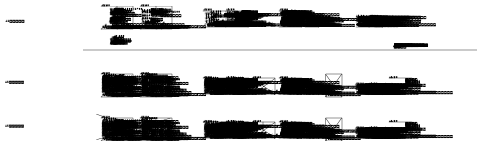corridor: (242, 52, 247, 54), (242, 5, 247, 6), (242, 126, 247, 127), (73, 70, 78, 71)
room: (350, 124, 367, 135), (333, 50, 350, 61), (272, 50, 289, 61), (272, 124, 289, 135), (350, 50, 366, 61), (334, 124, 350, 135), (333, 3, 350, 13), (272, 3, 289, 13), (350, 3, 366, 13), (73, 68, 78, 71), (25, 67, 30, 70), (73, 20, 78, 23), (25, 20, 29, 23), (150, 64, 154, 67), (178, 64, 182, 67), (74, 18, 78, 21), (74, 66, 78, 69), (25, 8, 29, 11), (74, 53, 78, 56), (74, 5, 78, 8), (150, 5, 154, 8), (178, 5, 182, 8), (25, 57, 29, 60), (150, 54, 154, 57), (178, 54, 182, 57), (74, 56, 78, 59), (74, 10, 78, 13), (25, 11, 29, 14), (74, 61, 78, 64), (150, 8, 154, 11), (178, 8, 182, 11), (151, 61, 153, 66), (179, 61, 181, 66), (75, 17, 77, 22), (26, 11, 28, 16), (26, 59, 28, 64), (26, 64, 28, 69), (75, 65, 77, 69), (26, 17, 28, 21), (151, 14, 153, 18), (179, 14, 181, 18), (150, 17, 154, 19), (178, 17, 182, 19), (25, 18, 29, 20), (25, 66, 29, 68), (150, 15, 154, 17), (150, 63, 154, 65), (178, 63, 182, 65), (178, 15, 182, 17), (25, 56, 29, 58), (150, 53, 154, 55), (178, 53, 182, 55), (25, 10, 29, 12), (74, 7, 78, 9), (74, 55, 78, 57), (150, 7, 154, 9), (25, 13, 29, 15), (178, 7, 182, 9), (74, 9, 78, 11), (74, 14, 78, 16), (25, 61, 29, 63), (25, 59, 29, 61), (74, 12, 78, 14), (74, 60, 78, 62), (25, 17, 29, 19), (25, 64, 29, 66), (150, 10, 154, 12), (150, 58, 154, 60), (74, 17, 78, 19), (150, 56, 154, 58), (178, 10, 182, 12), (178, 58, 182, 60), (178, 56, 182, 58), (74, 58, 78, 60), (74, 65, 78, 67), (150, 14, 154, 16), (150, 61, 154, 63), (178, 61, 182, 63), (178, 14, 182, 16), (25, 53, 29, 55), (25, 5, 29, 7), (74, 4, 78, 6), (74, 52, 78, 54), (150, 4, 154, 6), (178, 4, 182, 6), (25, 7, 29, 9), (160, 4, 163, 6), (188, 4, 191, 6), (26, 56, 28, 58), (150, 52, 154, 53), (178, 52, 182, 53), (25, 55, 29, 56), (160, 52, 163, 53), (188, 52, 191, 53), (188, 126, 191, 127), (160, 126, 163, 127), (255, 59, 258, 60), (255, 11, 258, 12), (255, 132, 258, 133), (243, 126, 245, 127), (256, 132, 257, 134), (335, 132, 336, 134), (159, 53, 161, 54), (196, 58, 197, 60), (166, 58, 167, 60), (159, 58, 160, 60), (344, 130, 346, 131), (335, 58, 337, 59), (249, 126, 250, 128), (346, 126, 348, 127), (343, 56, 345, 57), (345, 52, 347, 53), (243, 53, 245, 54), (249, 53, 250, 55), (159, 5, 161, 6), (26, 8, 28, 9), (26, 9, 28, 10), (26, 10, 28, 11), (335, 10, 337, 11), (345, 4, 347, 5), (243, 5, 245, 6), (249, 5, 250, 7), (190, 125, 191, 127), (196, 138, 197, 140), (162, 125, 163, 127), (26, 55, 28, 56), (26, 58, 28, 59), (256, 138, 257, 139), (244, 138, 245, 139), (340, 52, 341, 53), (35, 64, 36, 65), (38, 68, 39, 69), (344, 59, 345, 60), (352, 132, 353, 133), (344, 133, 345, 134), (162, 52, 163, 53), (190, 52, 191, 53), (187, 53, 188, 54), (53, 54, 54, 55), (196, 65, 197, 66), (162, 63, 163, 64), (249, 138, 250, 139), (85, 64, 86, 65), (86, 65, 87, 66), (244, 64, 245, 65), (256, 64, 257, 65), (256, 59, 257, 60), (245, 59, 246, 60), (342, 130, 343, 131), (362, 126, 363, 127), (340, 4, 341, 5), (35, 16, 36, 17), (38, 20, 39, 21), (344, 11, 345, 12), (162, 4, 163, 5), (190, 4, 191, 5), (187, 5, 188, 6), (53, 6, 54, 7), (196, 17, 197, 18), (196, 11, 197, 12), (166, 11, 167, 12), (159, 11, 160, 12), (162, 15, 163, 16), (85, 16, 86, 17), (86, 17, 87, 18), (244, 17, 245, 18), (256, 17, 257, 18), (256, 11, 257, 12), (245, 11, 246, 12), (341, 9, 342, 10), (362, 53, 363, 54), (362, 5, 363, 6), (188, 132, 189, 133), (189, 132, 190, 133), (196, 132, 197, 133), (85, 138, 86, 139), (40, 66, 41, 67), (38, 142, 39, 143), (35, 137, 36, 138), (33, 129, 34, 130), (243, 128, 243, 129), (245, 133, 246, 133), (351, 59, 353, 59), (340, 126, 341, 126), (336, 132, 338, 132), (189, 58, 189, 60), (167, 65, 167, 66), (335, 58, 335, 60), (243, 54, 243, 55), (249, 65, 250, 65), (341, 57, 342, 57), (189, 11, 189, 12), (167, 17, 167, 18), (335, 10, 335, 12), (85, 17, 86, 17), (343, 9, 345, 9), (243, 6, 243, 8), (249, 17, 250, 17), (351, 11, 353, 11), (187, 127, 188, 127), (186, 137, 187, 137), (196, 132, 196, 133), (159, 127, 161, 127), (86, 139, 87, 139)
shaft: (33, 130, 34, 133), (35, 128, 36, 128)
staircase: (73, 68, 78, 71), (73, 20, 78, 23), (25, 67, 30, 70), (74, 53, 78, 56), (74, 56, 78, 59), (150, 54, 154, 57), (150, 64, 154, 67), (178, 54, 182, 57), (178, 64, 182, 67), (74, 5, 78, 8), (74, 10, 78, 13), (74, 18, 78, 21), (25, 11, 29, 14), (25, 8, 29, 11), (25, 20, 29, 23), (150, 5, 154, 8), (150, 8, 154, 11), (178, 5, 182, 8), (178, 8, 182, 11), (74, 66, 78, 69), (25, 57, 29, 60), (74, 61, 78, 64), (78, 56, 79, 65), (183, 55, 184, 64), (74, 60, 78, 62), (74, 52, 78, 54), (178, 61, 182, 63), (178, 63, 182, 65), (150, 61, 154, 63), (150, 63, 154, 65), (150, 53, 154, 55), (150, 56, 154, 58), (150, 58, 154, 60), (178, 53, 182, 55), (178, 56, 182, 58), (178, 58, 182, 60), (74, 17, 78, 19), (74, 12, 78, 14), (74, 4, 78, 6), (74, 7, 78, 9), (74, 9, 78, 11), (74, 14, 78, 16), (25, 17, 29, 19), (25, 5, 29, 7), (25, 13, 29, 15), (25, 7, 29, 9), (25, 10, 29, 12), (25, 18, 29, 20), (178, 14, 182, 16), (178, 15, 182, 17), (150, 14, 154, 16), (150, 15, 154, 17), (150, 4, 154, 6), (150, 7, 154, 9), (150, 10, 154, 12), (150, 17, 154, 19), (178, 4, 182, 6), (178, 7, 182, 9), (178, 10, 182, 12), (178, 17, 182, 19), (25, 53, 29, 55), (25, 61, 29, 63), (25, 59, 29, 61), (25, 56, 29, 58), (25, 66, 29, 68), (25, 64, 29, 66), (74, 65, 78, 67), (74, 58, 78, 60), (74, 55, 78, 57), (177, 66, 183, 67), (73, 20, 78, 21), (25, 20, 30, 21), (73, 70, 78, 71), (25, 70, 30, 71), (150, 66, 155, 67), (74, 66, 78, 67), (73, 52, 74, 56), (76, 63, 78, 65), (74, 61, 78, 62), (73, 65, 74, 69), (74, 63, 78, 64), (74, 56, 78, 57), (74, 55, 78, 56), (74, 53, 78, 54), (178, 64, 182, 65), (150, 64, 154, 65), (150, 52, 154, 53), (150, 59, 152, 61), (150, 59, 154, 60), (150, 56, 154, 57), (150, 54, 154, 55), (150, 53, 154, 54), (178, 52, 182, 53), (180, 59, 182, 61), (178, 59, 182, 60), (178, 56, 182, 57), (178, 54, 182, 55), (178, 53, 182, 54), (74, 18, 78, 19), (73, 4, 74, 8), (76, 15, 78, 17), (74, 15, 78, 16), (74, 12, 78, 13), (74, 10, 78, 11), (74, 9, 78, 10), (74, 7, 78, 8), (74, 5, 78, 6), (25, 18, 29, 19), (25, 6, 29, 7), (25, 13, 29, 14), (25, 11, 29, 12), (25, 10, 29, 11), (25, 8, 29, 9), (178, 15, 182, 16), (178, 17, 182, 18), (150, 15, 154, 16), (150, 17, 154, 18), (154, 4, 155, 8), (177, 4, 178, 8), (150, 10, 154, 11), (150, 8, 154, 9), (150, 7, 154, 8), (150, 5, 154, 6), (178, 10, 182, 11), (178, 8, 182, 9), (178, 7, 182, 8), (178, 5, 182, 6), (25, 54, 29, 55), (25, 55, 29, 56), (25, 62, 27, 64), (25, 62, 29, 63), (25, 59, 29, 60), (25, 57, 29, 58), (25, 56, 29, 57), (78, 52, 79, 56), (73, 59, 74, 62), (73, 56, 74, 59), (154, 52, 155, 55), (154, 55, 155, 58), (154, 62, 155, 65), (177, 55, 178, 58), (177, 52, 178, 55), (177, 62, 178, 65), (73, 11, 74, 14), (73, 8, 74, 11), (73, 18, 74, 21), (154, 8, 155, 11), (154, 14, 155, 17), (177, 8, 178, 11), (177, 14, 178, 17), (183, 52, 184, 55), (75, 67, 77, 68), (75, 65, 77, 66), (76, 64, 78, 65), (75, 62, 77, 63), (75, 60, 77, 61), (75, 59, 77, 60), (75, 57, 77, 58), (75, 54, 77, 55), (75, 52, 77, 53), (151, 63, 153, 64), (151, 55, 153, 56), (152, 61, 154, 62), (151, 60, 153, 61), (151, 58, 153, 59), (151, 57, 153, 58), (151, 53, 153, 54), (151, 52, 153, 53), (178, 61, 180, 62), (179, 53, 181, 54), (179, 52, 181, 53), (75, 19, 77, 20), (75, 17, 77, 18), (74, 17, 76, 18), (75, 16, 77, 17), (75, 8, 77, 9), (75, 14, 77, 15), (75, 11, 77, 12), (75, 6, 77, 7), (75, 4, 77, 5), (26, 19, 28, 20), (26, 17, 28, 18), (26, 5, 28, 6), (25, 15, 27, 16), (26, 15, 28, 16), (26, 14, 28, 15), (26, 12, 28, 13), (26, 9, 28, 10), (26, 7, 28, 8), (151, 14, 153, 15), (150, 12, 152, 13), (151, 12, 153, 13), (151, 9, 153, 10), (151, 6, 153, 7), (151, 4, 153, 5), (180, 12, 182, 13), (179, 6, 181, 7), (179, 4, 181, 5), (26, 66, 28, 67), (26, 53, 28, 54), (26, 58, 28, 59), (27, 64, 29, 65), (26, 63, 28, 64), (26, 61, 28, 62), (26, 60, 28, 61), (26, 56, 28, 57), (26, 55, 28, 56), (180, 63, 181, 64), (154, 61, 155, 62), (177, 61, 178, 62), (180, 55, 181, 56), (180, 60, 181, 61), (180, 58, 181, 59), (180, 57, 181, 58), (180, 14, 181, 15), (180, 12, 181, 13), (180, 9, 181, 10), (74, 65, 76, 65), (75, 64, 77, 64), (75, 56, 77, 56), (73, 65, 74, 65), (74, 60, 78, 60), (180, 62, 181, 62), (178, 63, 182, 63), (151, 62, 153, 62), (150, 63, 154, 63), (150, 61, 152, 61), (150, 58, 154, 58), (181, 61, 182, 61), (178, 58, 182, 58), (76, 17, 78, 17), (74, 14, 78, 14), (73, 17, 74, 17), (75, 13, 77, 13), (75, 10, 77, 10), (30, 5, 30, 7), (30, 17, 30, 20), (30, 7, 30, 11), (30, 11, 30, 14), (30, 17, 30, 17), (26, 11, 28, 11), (27, 17, 29, 17), (25, 16, 27, 16), (25, 15, 29, 15), (180, 16, 181, 16), (151, 16, 153, 16), (154, 14, 155, 14), (177, 14, 178, 14), (151, 8, 153, 8), (152, 14, 154, 14), (150, 13, 152, 13), (150, 12, 154, 12), (151, 11, 153, 11), (180, 8, 181, 8), (178, 14, 180, 14), (181, 13, 182, 13), (178, 12, 182, 12), (180, 11, 181, 11), (25, 66, 29, 66), (26, 65, 28, 65), (30, 53, 30, 55), (30, 65, 30, 68), (30, 55, 30, 58), (30, 58, 30, 61), (30, 64, 30, 65), (25, 64, 27, 64), (25, 61, 29, 61)
wall: (17, 0, 109, 29), (147, 3, 203, 20), (177, 4, 183, 13), (150, 52, 155, 61), (150, 4, 155, 13), (75, 53, 77, 65), (75, 5, 77, 17), (151, 52, 153, 61), (179, 52, 181, 61), (177, 52, 183, 55), (151, 5, 153, 13), (179, 5, 181, 13), (253, 127, 258, 129), (242, 52, 247, 54), (253, 53, 258, 55), (25, 19, 30, 21), (177, 16, 182, 18), (150, 16, 155, 18), (253, 5, 258, 7), (25, 55, 30, 57), (150, 52, 154, 54), (178, 52, 182, 54), (160, 51, 163, 53), (188, 51, 191, 53), (250, 58, 252, 61), (188, 125, 191, 127), (160, 125, 163, 127), (242, 126, 247, 127), (73, 61, 78, 62), (73, 55, 78, 56), (73, 58, 78, 59), (73, 68, 78, 69), (177, 64, 182, 65), (150, 64, 155, 65), (150, 54, 155, 55), (150, 57, 155, 58), (177, 54, 182, 55), (177, 57, 182, 58), (73, 13, 78, 14), (73, 7, 78, 8), (73, 10, 78, 11), (73, 20, 78, 21), (25, 18, 30, 19), (25, 6, 30, 7), (25, 10, 30, 11), (25, 8, 30, 9), (25, 11, 30, 12), (25, 13, 30, 14), (25, 14, 30, 15), (150, 7, 155, 8), (150, 10, 155, 11), (177, 7, 182, 8), (177, 10, 182, 11), (242, 5, 247, 6), (25, 65, 30, 66), (25, 54, 30, 55), (25, 57, 30, 58), (25, 59, 30, 60), (25, 62, 30, 63), (25, 67, 30, 68), (250, 132, 252, 134), (337, 52, 341, 53), (74, 66, 78, 67), (74, 53, 78, 54), (74, 56, 78, 57), (74, 59, 78, 60), (74, 63, 78, 64), (178, 62, 182, 63), (150, 62, 154, 63), (150, 56, 154, 57), (150, 59, 154, 60), (178, 56, 182, 57), (178, 59, 182, 60), (243, 55, 247, 56), (34, 19, 36, 21), (74, 18, 78, 19), (74, 5, 78, 6), (74, 9, 78, 10), (74, 12, 78, 13), (74, 15, 78, 16), (54, 19, 56, 21), (45, 19, 47, 21), (178, 15, 182, 16), (150, 15, 154, 16), (150, 5, 154, 6), (150, 8, 154, 9), (150, 11, 154, 12), (178, 5, 182, 6), (178, 8, 182, 9), (178, 11, 182, 12), (250, 11, 252, 13), (243, 7, 247, 8), (334, 52, 337, 53), (152, 61, 155, 62), (177, 61, 180, 62), (335, 58, 338, 59), (160, 4, 163, 5), (188, 4, 191, 5), (335, 10, 338, 11), (45, 58, 48, 59), (27, 64, 30, 65), (335, 52, 337, 53), (34, 67, 36, 68), (343, 59, 345, 60), (344, 133, 346, 134), (76, 64, 78, 65), (45, 57, 47, 58), (54, 67, 56, 68), (45, 67, 47, 68), (34, 57, 36, 58), (95, 57, 97, 58), (95, 67, 97, 68), (85, 57, 87, 58), (85, 67, 87, 68), (341, 130, 343, 131), (343, 11, 345, 12), (26, 6, 28, 7), (26, 7, 28, 8), (45, 9, 47, 10), (34, 9, 36, 10), (95, 9, 97, 10), (85, 20, 87, 21), (95, 141, 97, 142), (85, 131, 87, 132), (85, 141, 87, 142), (26, 53, 28, 54), (26, 54, 28, 55), (34, 109, 36, 110), (34, 141, 36, 142), (34, 131, 36, 132), (347, 56, 348, 57), (276, 126, 277, 127), (342, 126, 343, 127), (358, 132, 359, 133), (54, 57, 55, 58), (39, 53, 40, 54), (104, 67, 105, 68), (105, 57, 106, 58), (167, 59, 168, 60), (167, 58, 168, 59), (160, 59, 161, 60), (160, 58, 161, 59), (186, 63, 187, 64), (276, 57, 277, 58), (249, 138, 250, 139), (180, 62, 181, 63), (180, 59, 181, 60), (180, 56, 181, 57), (54, 9, 55, 10), (105, 9, 106, 10), (167, 11, 168, 12), (160, 11, 161, 12), (85, 6, 86, 7), (95, 16, 96, 17), (160, 10, 161, 11), (180, 8, 181, 9), (341, 9, 342, 10), (352, 11, 353, 12), (78, 55, 79, 56), (35, 105, 36, 106), (39, 110, 40, 111), (243, 129, 247, 129), (342, 53, 343, 53), (337, 53, 340, 53), (40, 64, 40, 64), (358, 59, 359, 59), (352, 59, 352, 59), (352, 59, 353, 59), (283, 131, 283, 131), (276, 131, 277, 131), (338, 126, 341, 126), (335, 126, 338, 126), (352, 133, 353, 133), (348, 130, 348, 131), (335, 132, 338, 132), (73, 65, 76, 65), (39, 59, 39, 59), (106, 59, 107, 59), (53, 59, 54, 59), (196, 59, 196, 60), (196, 58, 196, 59), (188, 59, 188, 60), (188, 58, 188, 59), (150, 61, 152, 61), (180, 61, 182, 61), (283, 57, 283, 58), (276, 53, 277, 53), (257, 138, 257, 139), (35, 54, 36, 54), (46, 64, 47, 64), (55, 64, 56, 64), (46, 54, 47, 54), (85, 54, 86, 54), (95, 64, 96, 64), (104, 64, 104, 64), (95, 54, 96, 54), (168, 65, 168, 65), (160, 58, 161, 58), (196, 65, 196, 65), (188, 58, 188, 58), (152, 56, 152, 56), (152, 56, 152, 57), (152, 59, 152, 60), (152, 62, 152, 63), (180, 56, 181, 56), (249, 65, 250, 65), (257, 65, 257, 65), (341, 57, 342, 57), (340, 57, 342, 57), (342, 5, 343, 5), (337, 5, 341, 5), (337, 5, 340, 5), (335, 5, 337, 5), (334, 5, 337, 5), (40, 16, 40, 16), (347, 9, 348, 9), (73, 17, 76, 17), (76, 17, 78, 17), (27, 17, 30, 17), (25, 16, 27, 16), (39, 11, 39, 11), (106, 11, 107, 11), (53, 11, 54, 11), (39, 6, 40, 6), (104, 20, 105, 20), (95, 20, 97, 20), (85, 10, 87, 10), (196, 11, 196, 12), (196, 11, 196, 11), (188, 11, 188, 12), (188, 11, 188, 11), (167, 11, 168, 11), (160, 11, 161, 11), (152, 14, 155, 14), (150, 13, 152, 13), (177, 14, 180, 14), (180, 13, 182, 13), (186, 16, 187, 16), (276, 10, 277, 10), (283, 10, 283, 10), (276, 5, 277, 5), (35, 6, 36, 6), (46, 16, 47, 16), (55, 16, 56, 16), (46, 6, 47, 6), (104, 16, 104, 17), (95, 6, 96, 6), (168, 17, 168, 17), (196, 17, 196, 17), (188, 10, 188, 11), (152, 8, 152, 9), (152, 9, 152, 9), (152, 12, 152, 12), (152, 15, 152, 15), (180, 15, 181, 15), (180, 12, 181, 12), (180, 9, 181, 9), (249, 17, 250, 17), (257, 17, 257, 18), (340, 9, 342, 9), (358, 11, 359, 11), (352, 11, 352, 12), (188, 133, 189, 133), (196, 133, 196, 133), (95, 138, 96, 138), (85, 128, 86, 128), (45, 69, 48, 69), (54, 69, 57, 69), (162, 56, 163, 56), (170, 63, 170, 63), (74, 71, 78, 71), (25, 61, 30, 61), (25, 64, 27, 64), (24, 57, 25, 57), (183, 55, 184, 55), (40, 110, 40, 111), (40, 105, 40, 106), (40, 137, 40, 138), (34, 133, 37, 133), (38, 133, 39, 133), (40, 133, 41, 133)
window: (242, 52, 247, 54), (253, 127, 257, 129), (242, 126, 247, 127), (242, 5, 247, 6), (250, 132, 252, 134), (248, 126, 250, 128), (250, 58, 252, 60), (253, 54, 257, 55), (248, 52, 250, 54), (250, 11, 252, 13), (253, 6, 257, 7), (248, 5, 250, 7), (250, 5, 252, 7), (244, 132, 247, 133), (255, 132, 258, 133), (255, 59, 258, 60), (255, 11, 258, 12), (244, 11, 247, 12), (250, 127, 252, 128), (250, 53, 252, 54), (257, 127, 258, 128), (257, 53, 258, 54), (257, 5, 258, 6), (243, 128, 243, 129), (251, 128, 251, 129), (244, 59, 247, 59), (243, 55, 243, 55), (251, 55, 251, 56), (243, 7, 243, 8), (251, 7, 251, 8)
